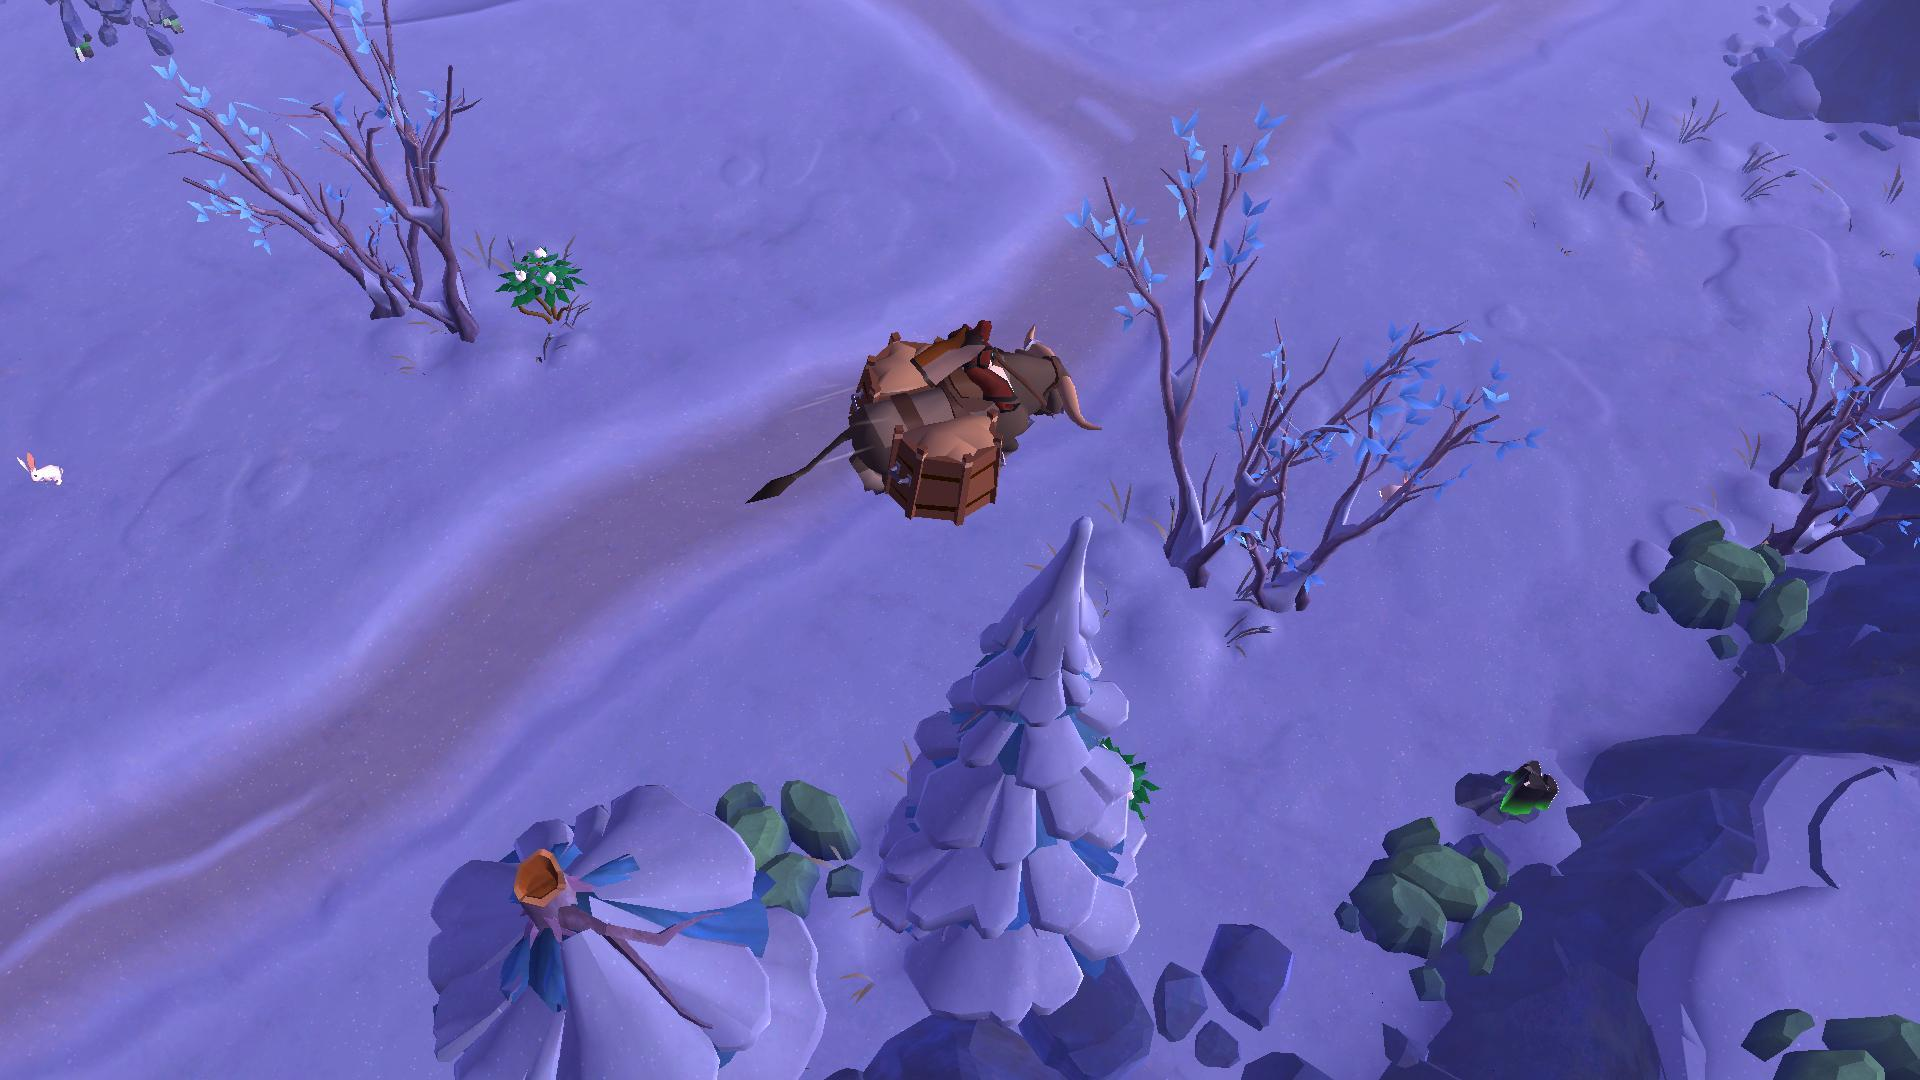fiber_t3: (493, 236, 585, 334)
mobOre_t3: (45, 0, 194, 83)
ore_t3: (1458, 752, 1564, 829)
rock_t3: (1303, 794, 1528, 997), (1617, 496, 1820, 659), (674, 761, 869, 915), (1746, 998, 1920, 1080)
